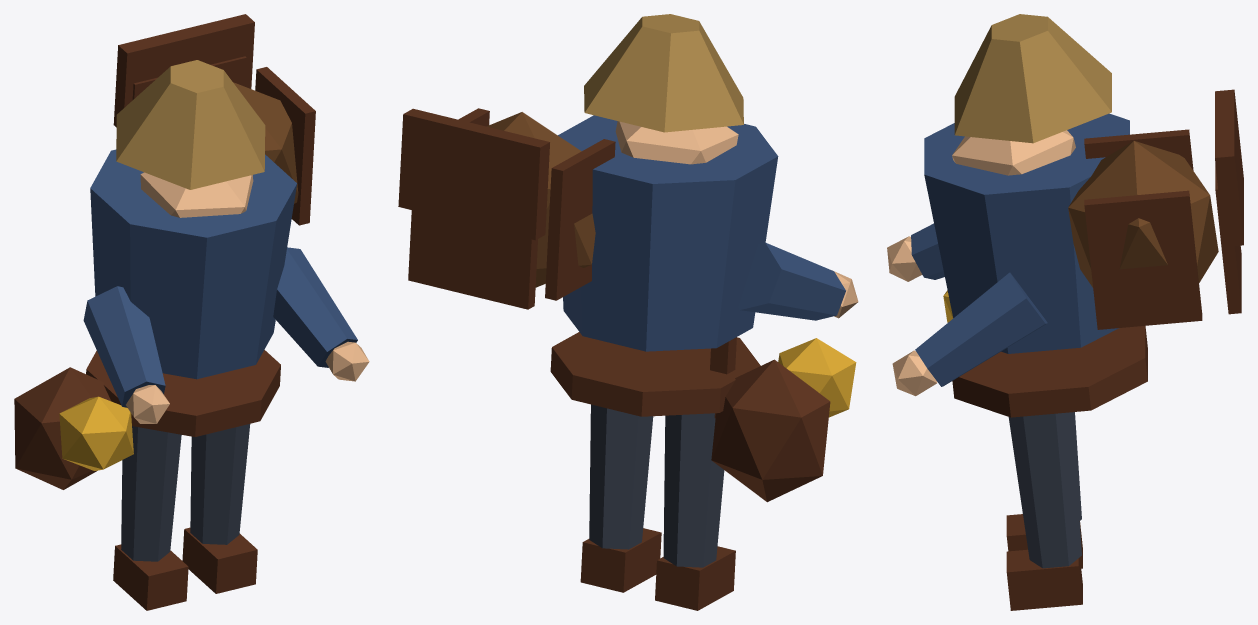
Rendered from npcpose_merchant_walk_02.glb.
3 renders of one model, left to right at view 1: azimuth 30°, elevation 25°; view 2: azimuth 150°, elevation 25°; view 3: azimuth 270°, elevation 25°, orthographic. The views are drawn at different scales.
Parts seen in each view (by area): view 1: npcpose; view 2: npcpose; view 3: npcpose.
Boxes of the visible parts, bbox=[...] form: npcpose: bbox=[14, 14, 369, 610]; npcpose: bbox=[398, 14, 858, 610]; npcpose: bbox=[887, 14, 1243, 610].
Size of the model in its own units: 1.2 by 1.87 by 1.09.
